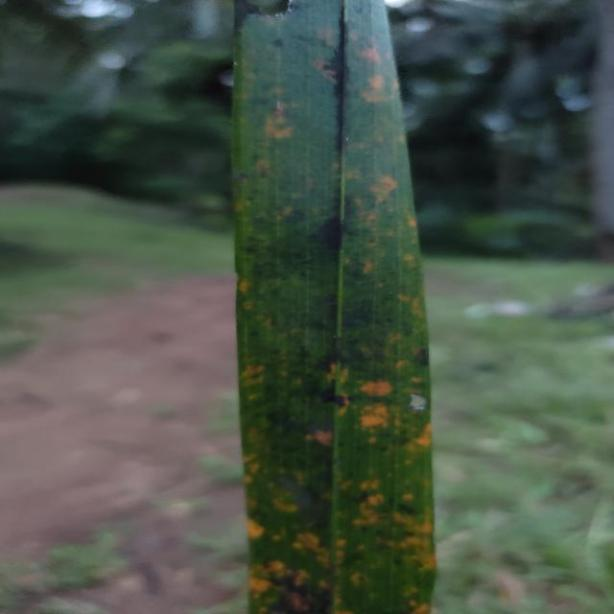Kalium: (232, 0, 433, 614)
